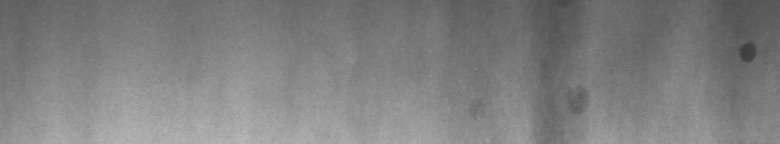fi: (736, 36, 760, 68)
